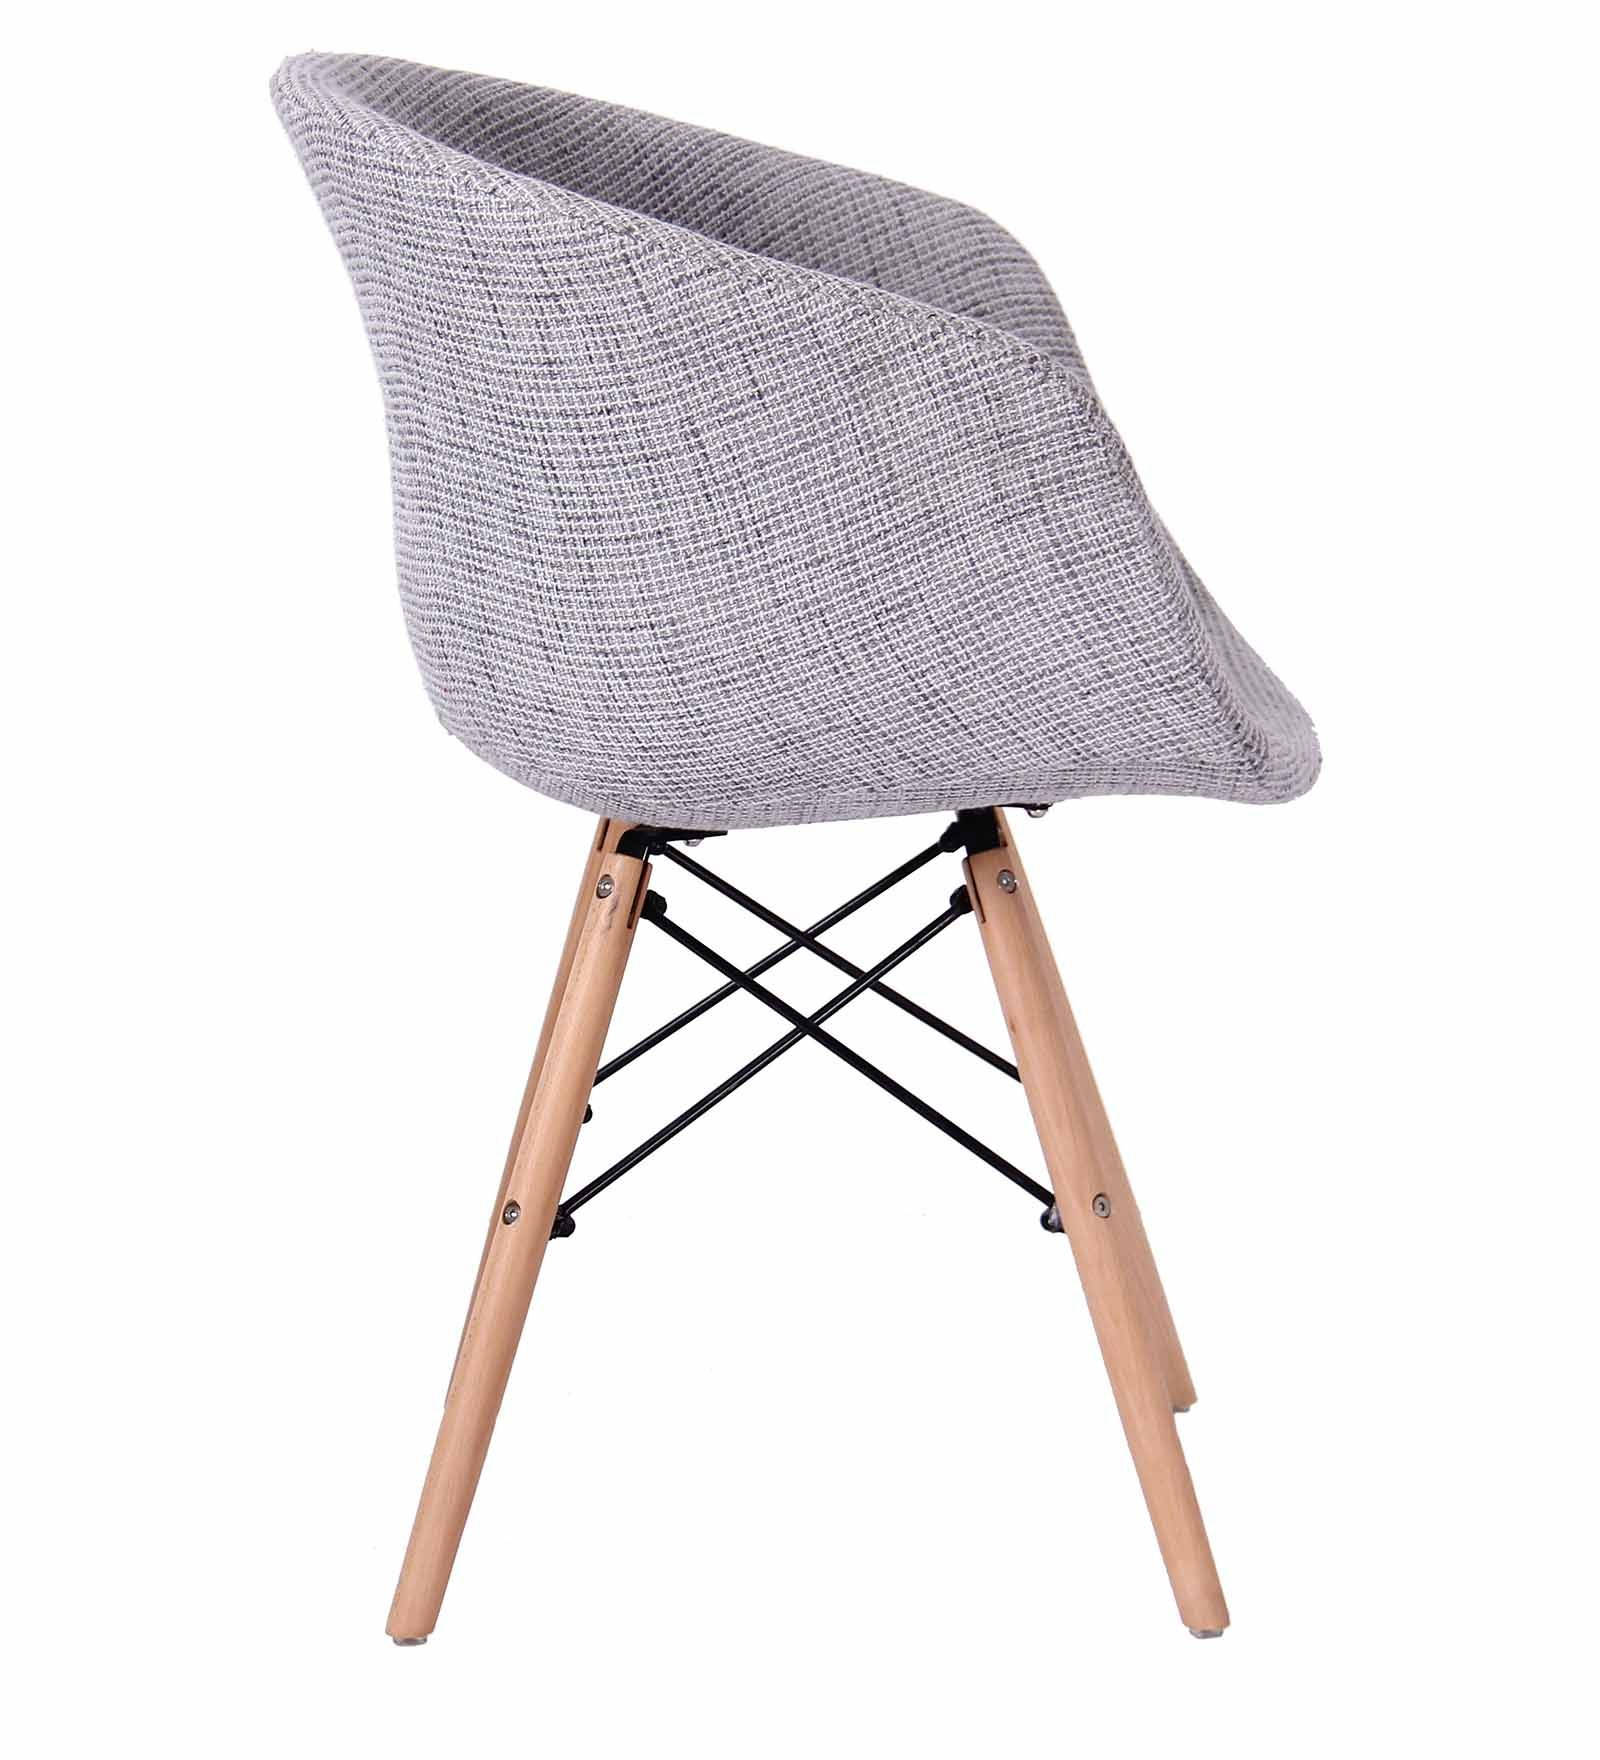Cory Fabric Chair in Light Grey Colour by Bohemiana: (195, 31, 1352, 1726)
